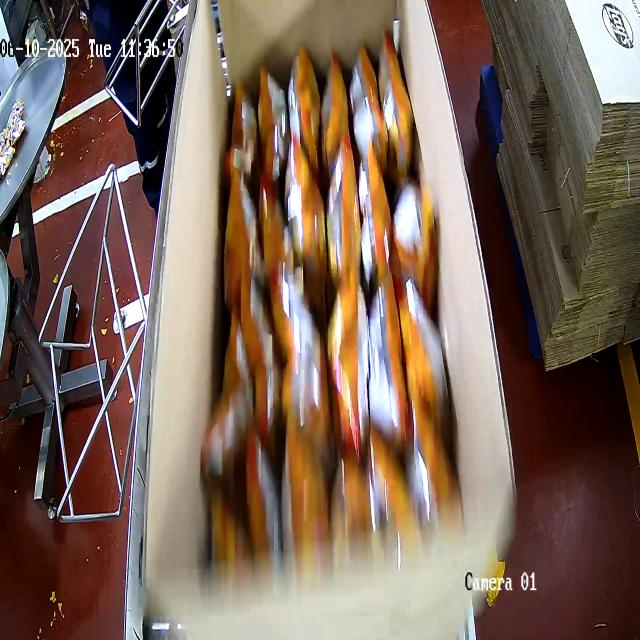FRENCH_CHEESE: (200, 26, 464, 598)
